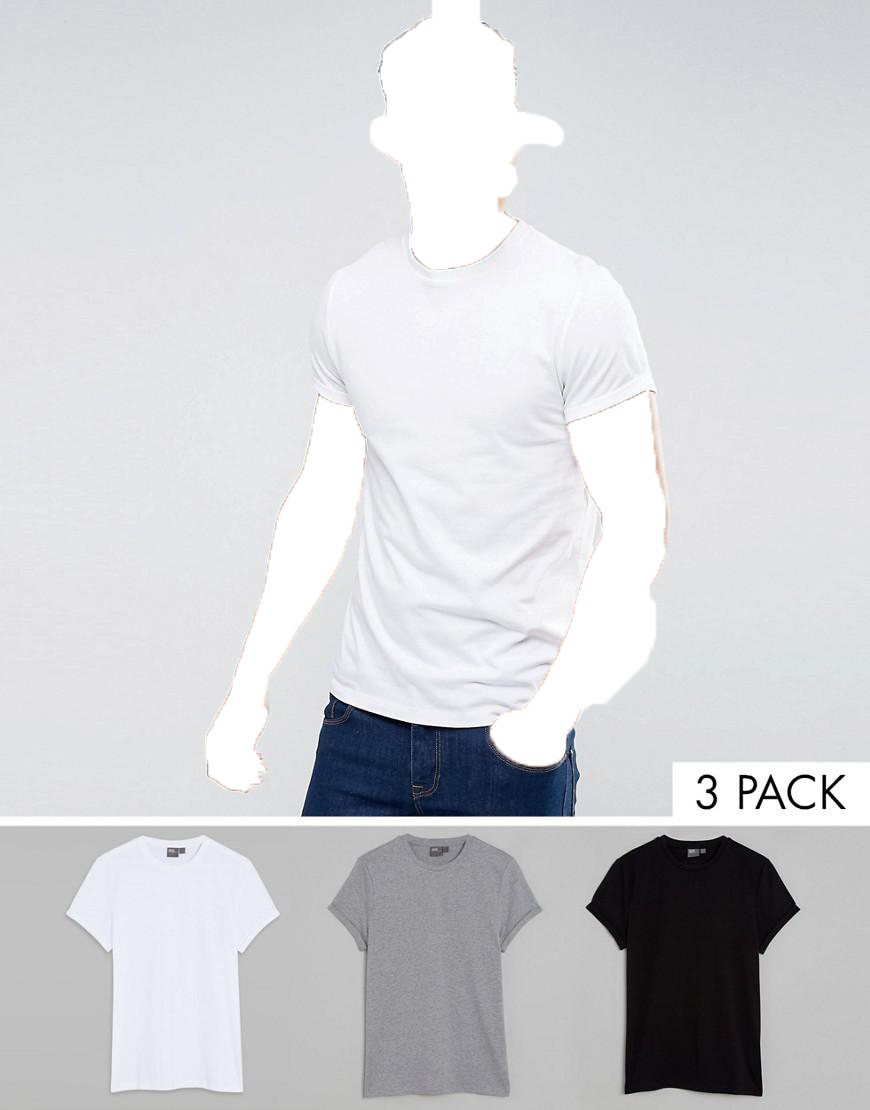teeshirt: (296, 224, 674, 730), (312, 832, 547, 1107), (64, 835, 288, 1105), (585, 835, 807, 1100)
